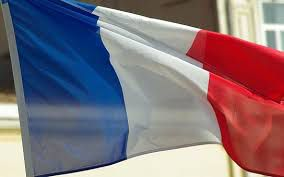French Flag: (2, 1, 282, 177)
